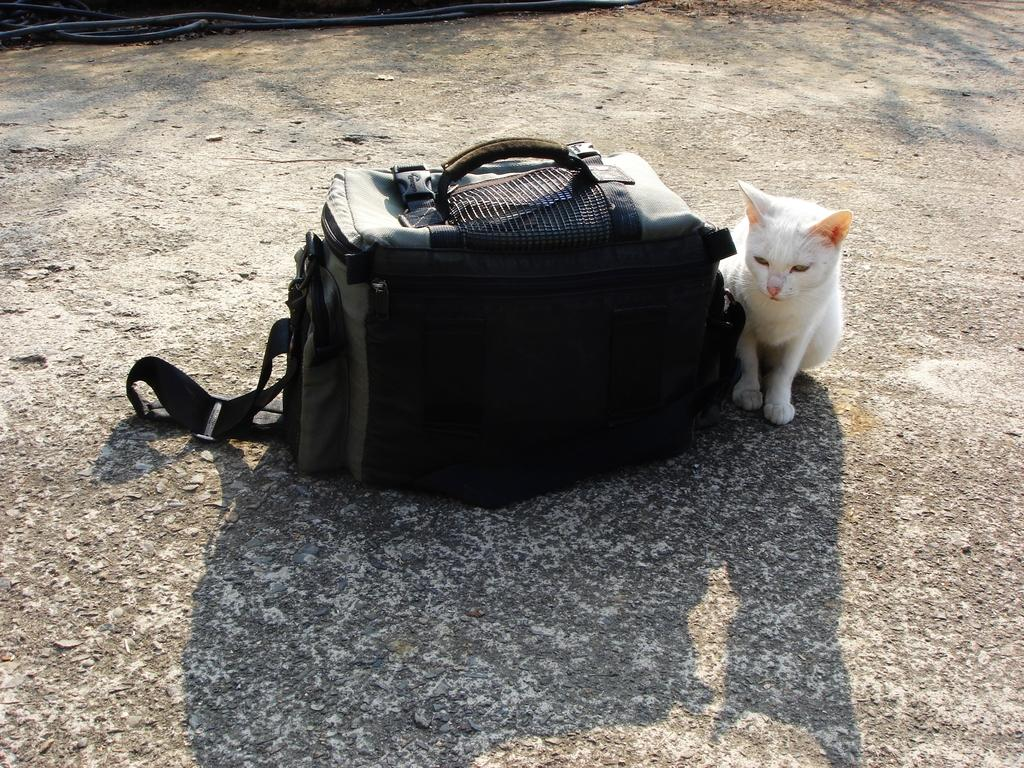Luggage-and-bags: (236, 140, 708, 483)
